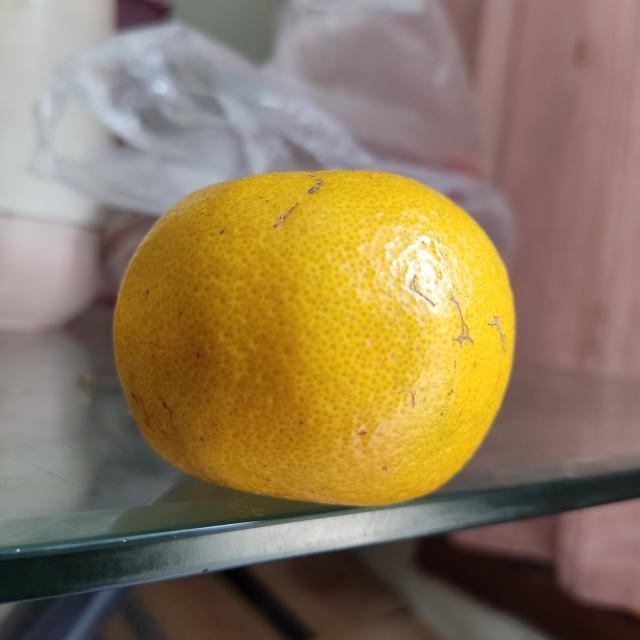agrume: (109, 168, 525, 508)
